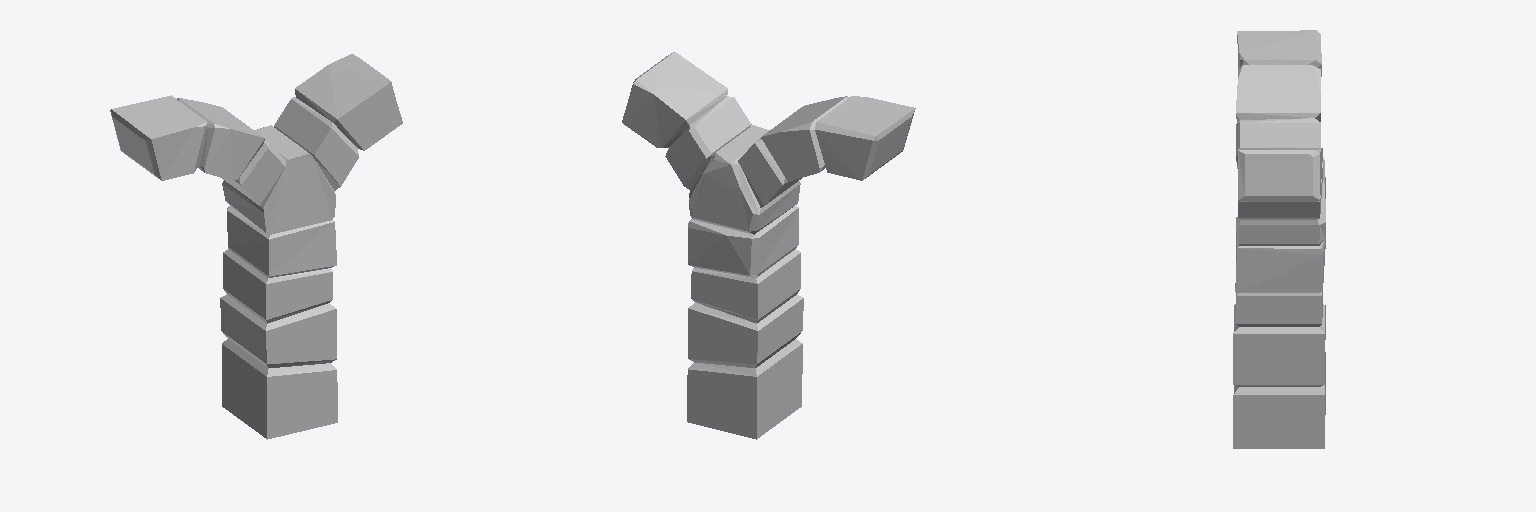
File: Arch.obj
The picture shows the model from 3 angles: view 1: azimuth 30°, elevation 25°; view 2: azimuth 150°, elevation 25°; view 3: azimuth 270°, elevation 25°; orthographic projection.
Visible parts, largest first — view 1: Arch; view 2: Arch; view 3: Arch.
Boxes of the visible parts, x1,y1,x2,y2 form: Arch: [110, 54, 402, 439]; Arch: [622, 52, 915, 439]; Arch: [1233, 30, 1325, 448].
Bounding box in the file's own units: 8.36 × 10.3 × 2.65.